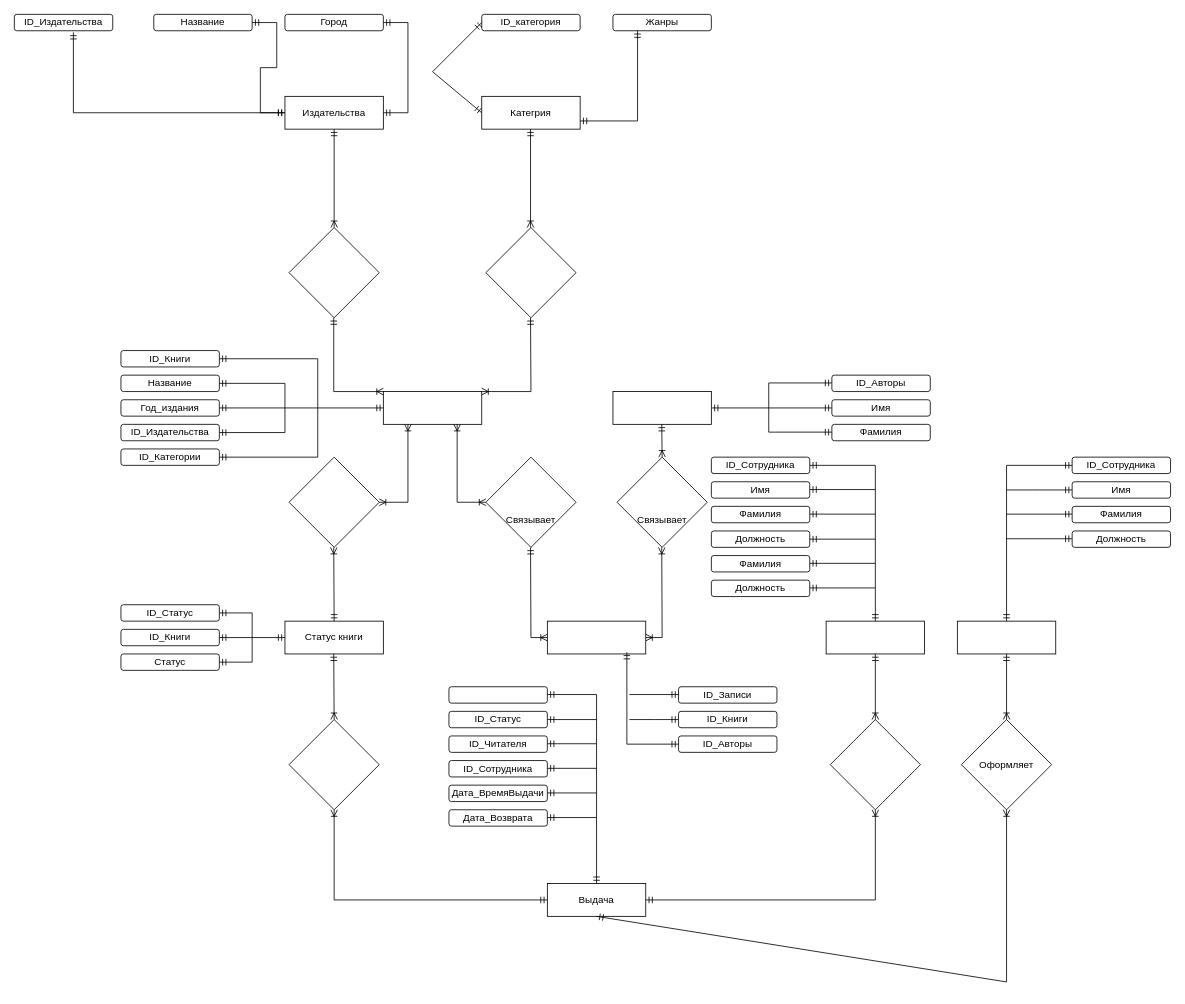
Image size: 1185x1004. Some labels were removed from this diagram. Each missing label, with the centre of its shape:
"ID_Выдача" belongs at (x=497, y=694).
"Авторы" belongs at (x=661, y=407).
"Авторы_Книги" belongs at (x=596, y=637).
"Выдается как" belongs at (x=333, y=764).
"Имеет статус" belongs at (x=333, y=501).
"Книги" belongs at (x=432, y=407).
"Относится к" belongs at (x=530, y=272).
"Получает" belongs at (x=874, y=764).
"Публикует" belongs at (x=333, y=272).
"Сотрудники" belongs at (x=1006, y=637).
"Читатели" belongs at (x=875, y=637).
